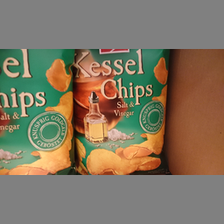chips: (73, 50, 168, 174), (1, 49, 74, 174)
